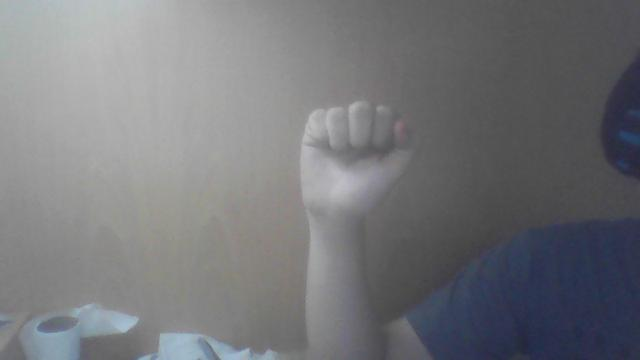forward: (298, 99, 418, 221)
